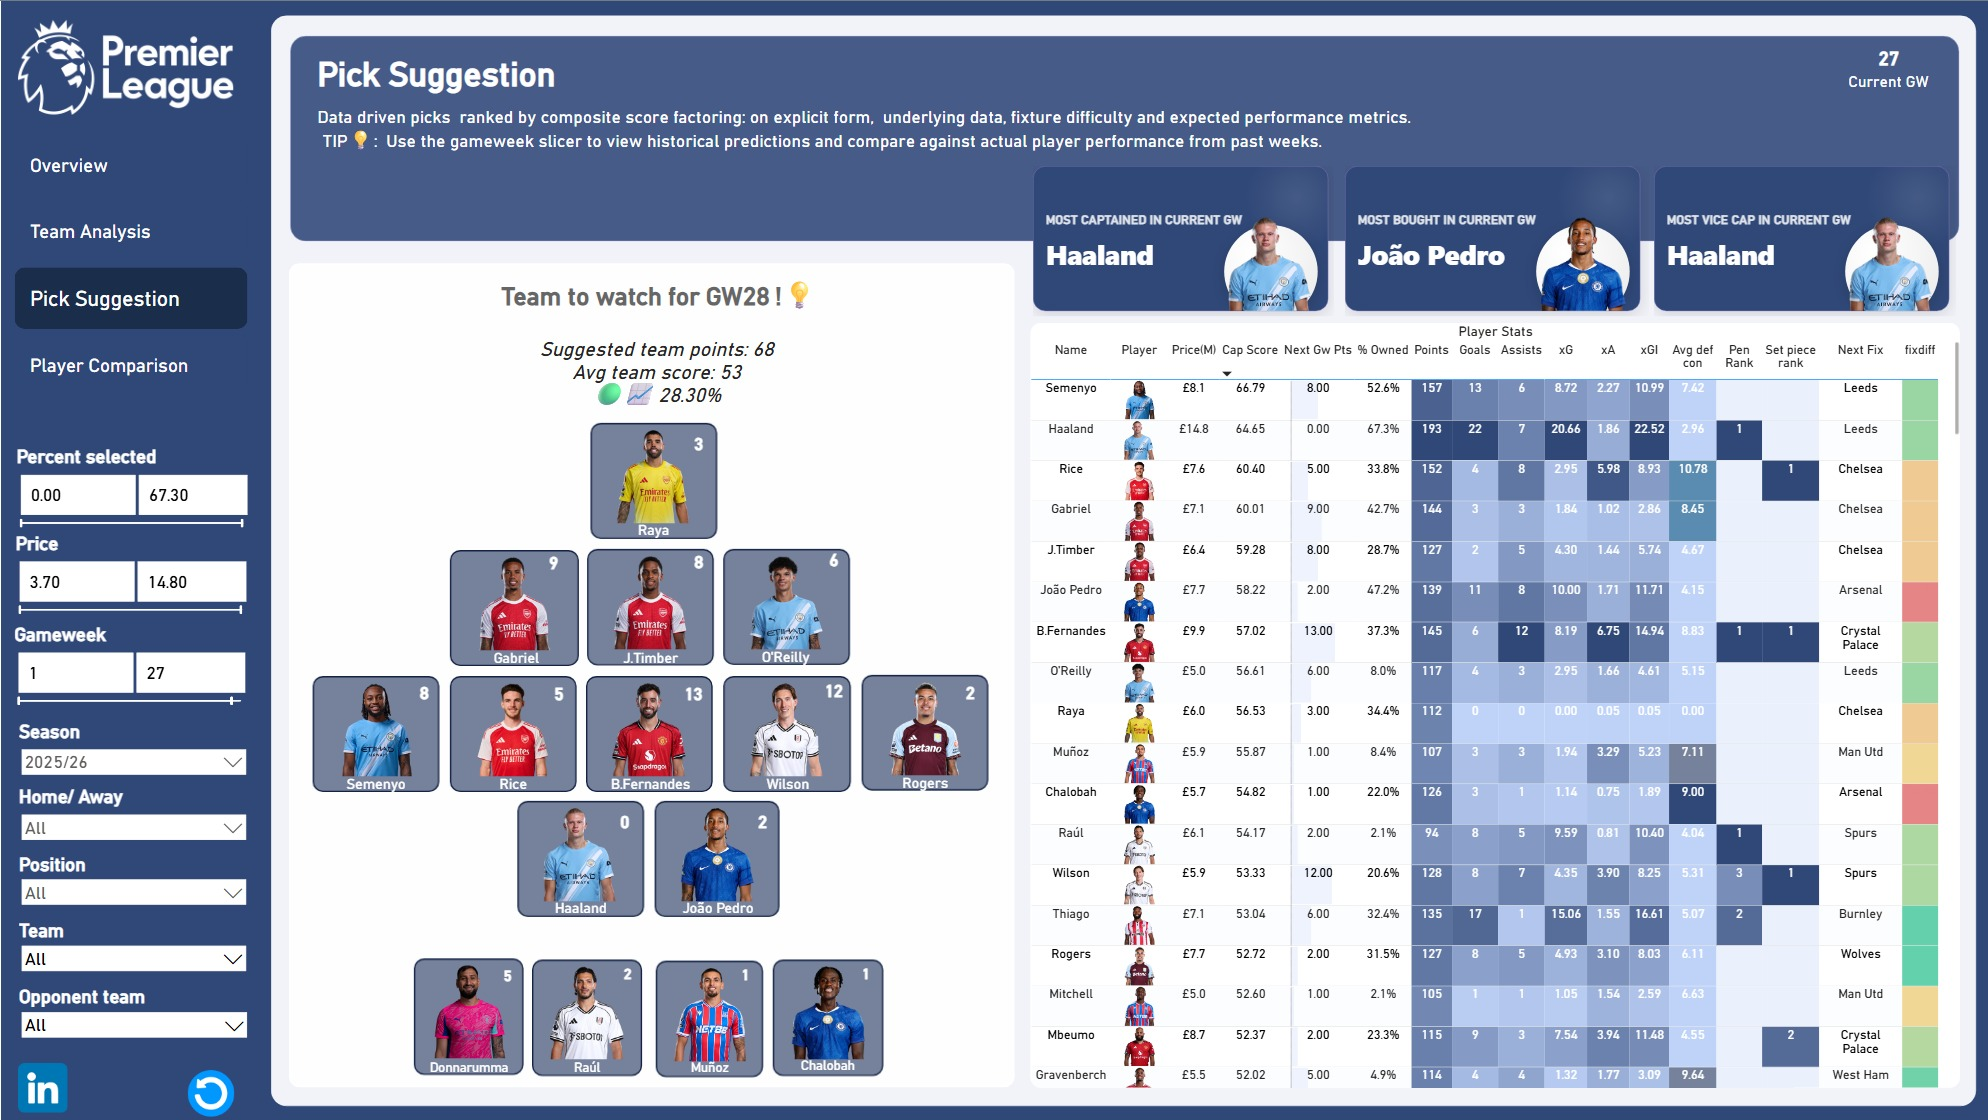

The dashboard page shown, as its layout file describes it:
{"tool":"powerbi","page":{"name":"Pick Suggestion","canvas":[3840,2160],"ordinal":2},"visuals":[{"type":"shape","box":[522,28,3290,2104],"z":0},{"type":"htmlContent443BE3AD55E043BF878BED274D3A6855","fields":{"content":["measures_.gk2_imageurl"]},"box":[796.6,1848.2,211.8,225],"z":0,"group":"g1"},{"type":"shape","box":[556.7,506.7,1400,1590],"z":1000},{"type":"htmlContent443BE3AD55E043BF878BED274D3A6855","fields":{"content":["measures_.fwd3_imageurl"]},"box":[1024.8,1848.9,212,225],"z":1000,"group":"g1"},{"type":"group","id":"g1","title":"Group 1","box":[600.6,814.4,1302.8,1262.5],"z":2000},{"type":"htmlContent443BE3AD55E043BF878BED274D3A6855","fields":{"content":["measures_.def4_imageurl"]},"box":[1262.2,1851.9,207.2,225],"z":2000,"group":"g1"},{"type":"image","box":[32,0,416,256],"z":3000},{"type":"htmlContent443BE3AD55E043BF878BED274D3A6855","fields":{"content":["measures_.def5_imageurl"]},"box":[1488.6,1850,213.3,225],"z":3000,"group":"g1"},{"type":"card","fields":{"Values":["measures_.mid3_name"]},"box":[1130.3,1476.6,244.2,63.7],"z":4000},{"type":"htmlContent443BE3AD55E043BF878BED274D3A6855","fields":{"content":["measures_.fwd1_imageurl"]},"box":[995.7,1544.2,244.2,224.3],"z":4000,"group":"g1"},{"type":"card","fields":{"Values":["measures_.mid4_name"]},"box":[1395.1,1476.6,244.2,63.7],"z":5000},{"type":"htmlContent443BE3AD55E043BF878BED274D3A6855","fields":{"content":["measures_.fwd2_imageurl"]},"box":[1260.6,1544.2,241.1,224.3],"z":5000,"group":"g1"},{"type":"card","fields":{"Values":["measures_.def2_name"]},"box":[1131.1,1233.3,244.9,65.3],"z":6000},{"type":"htmlContent443BE3AD55E043BF878BED274D3A6855","fields":{"content":["measures_.mid5_imageurl"]},"box":[1659.3,1301.7,244.1,223.5],"z":6000,"group":"g1"},{"type":"card","fields":{"Values":["measures_.def3_name"]},"box":[1392.4,1232.5,244.9,61.7],"z":7000},{"type":"htmlContent443BE3AD55E043BF878BED274D3A6855","fields":{"content":["measures_.mid4_imageurl"]},"box":[1393.3,1302.6,245.9,223.6],"z":7000,"group":"g1"},{"type":"htmlContent443BE3AD55E043BF878BED274D3A6855","fields":{"content":["measures_.mid3_imageurl"]},"box":[1129.1,1302.6,244.2,224.3],"z":8000,"group":"g1"},{"type":"card","fields":{"Values":["measures_.fwd1_name"]},"box":[995.7,1716.4,244.2,63.7],"z":8000},{"type":"htmlContent443BE3AD55E043BF878BED274D3A6855","fields":{"content":["measures_.mid1_imageurl"]},"box":[600.6,1302.6,244.2,224.3],"z":9000,"group":"g1"},{"type":"card","fields":{"Values":["measures_.mid1_name"]},"box":[600.6,1476.6,244.2,63.7],"z":9000},{"type":"htmlContent443BE3AD55E043BF878BED274D3A6855","fields":{"content":["measures_.def2_imageurl"]},"box":[1130.6,1058.1,244.2,224.6],"z":10000,"group":"g1"},{"type":"card","fields":{"Values":["measures_.mid5_name"]},"box":[1659.9,1476.6,244.9,63.3],"z":10000},{"type":"htmlContent443BE3AD55E043BF878BED274D3A6855","fields":{"content":["measures_.def3_imageurl"]},"box":[1393.3,1058,244.2,224],"z":11000,"group":"g1"},{"type":"card","fields":{"Values":["measures_.fwd2_name"]},"box":[1260.6,1716.4,244.2,63.7],"z":11000},{"type":"htmlContent443BE3AD55E043BF878BED274D3A6855","fields":{"content":["measures_.mid2_imageurl"]},"box":[864.8,1302.6,244,224.3],"z":12000,"group":"g1"},{"type":"card","fields":{"Values":["measures_.def5_name"]},"box":[1489.7,2021.7,211.7,64.7],"z":12000},{"type":"htmlContent443BE3AD55E043BF878BED274D3A6855","fields":{"content":["measures_.gk1_imageurl"]},"box":[1136.6,814.4,244,224],"z":13000,"group":"g1"},{"type":"card","fields":{"Values":["measures_.def4_name"]},"box":[1262.2,2021.7,207.2,68.6],"z":13000},{"type":"htmlContent443BE3AD55E043BF878BED274D3A6855","fields":{"content":["measures_.def1_imageurl"]},"box":[864.8,1058.6,249,224],"z":14000,"group":"g1"},{"type":"card","fields":{"Values":["measures_.fwd3_name"]},"box":[1024.8,2021.7,212,69.6],"z":14000},{"type":"card","fields":{"Values":["measures_.gk2_name"]},"box":[796.7,2021.7,211.8,70.6],"z":15000},{"type":"image","box":[32,2048,96,96],"z":16000},{"type":"card","fields":{"Values":["measures_.mid3_pts"]},"box":[1288.8,1304,93.3,60],"z":17000},{"type":"card","fields":{"Values":["measures_.mid4_pts"]},"box":[1572.1,1302.6,70,51],"z":18000},{"type":"card","fields":{"Values":["measures_.def2_pts"]},"box":[1311.1,1051.6,70,60],"z":19000},{"type":"card","fields":{"Values":["measures_.def3_pts"]},"box":[1572.1,1051.6,70,51],"z":20000},{"type":"card","fields":{"Values":["measures_.fwd1_pts"]},"box":[1167.4,1549.5,71.1,64.7],"z":21000},{"type":"card","fields":{"Values":["measures_.mid1_pts"]},"box":[779.4,1302.6,74.1,61.8],"z":22000},{"type":"card","fields":{"Values":["measures_.mid2_name"]},"box":[865.4,1476.6,244,63.7],"z":23000},{"type":"card","fields":{"Values":["measures_.mid5_pts"]},"box":[1833.5,1302.6,71.1,61.8],"z":24000},{"type":"card","fields":{"Values":["measures_.fwd2_pts"]},"box":[1425.8,1549.5,85.9,64.7],"z":25000},{"type":"card","fields":{"Values":["measures_.def5_pts"]},"box":[1630.5,1846.7,76.2,57.5],"z":26000},{"type":"card","fields":{"Values":["measures_.def4_pts"]},"box":[1400.2,1846.7,72,58.3],"z":27000},{"type":"card","fields":{"Values":["measures_.fwd3_pts"]},"box":[1173.5,1846.7,68.4,56.5],"z":28000},{"type":"card","fields":{"Values":["measures_.gk2_pts"]},"box":[944.6,1846.7,65.7,62.8],"z":29000},{"type":"card","fields":{"Values":["measures_.mid2_pts"]},"box":[1036.9,1302.6,77,64.7],"z":30000},{"type":"shape","box":[557,68,3220,396],"z":31000},{"type":"slicer","title":"Team ","fields":{"Values":["teams.team_name"]},"box":[34,1766,448,128],"z":32000},{"type":"slicer","title":"Gameweek","fields":{"Values":["FactTable.gameweek"]},"box":[26.7,1196.7,450,193.3],"z":33000},{"type":"pageNavigator","box":[26.7,256.7,450,506.7],"z":34000},{"type":"slicer","title":"Price","fields":{"Values":["FactTable.value"]},"box":[29,1020,450,195],"z":35000},{"type":"slicer","title":"Opponent team","fields":{"Values":["opponent teams.opponent_name"]},"box":[34,1895,450,130],"z":36000},{"type":"slicer","title":"Percent selected ","fields":{"Values":["FactTable.selected_by_percent"]},"box":[30,853.3,450,196.7],"z":37000},{"type":"card","fields":{"Values":["measures_.def1_name"]},"box":[872.6,1232.5,242.9,65],"z":38000},{"type":"textbox","box":[606.7,96.7,2610,296.7],"z":39000},{"type":"card","fields":{"Values":["measures_._gw"]},"box":[3546.7,70,190,110],"z":40000},{"type":"card","fields":{"Values":["measures_.def1_pts"]},"box":[1027,1048.8,78.6,67.9],"z":41000},{"type":"slicer","title":"Season","fields":{"Values":["season.season"]},"box":[34,1382,448,128],"z":42000},{"type":"card","fields":{"Values":["measures_.gk1_pts"]},"box":[1311.1,823.2,70,60],"z":43000},{"type":"card","fields":{"Values":["measures_.gk1_name"]},"box":[1136.9,987.5,242.5,62.5],"z":44000},{"type":"slicer","title":"Position","fields":{"Values":["Position.Position"]},"box":[34,1638,448,128],"z":45000},{"type":"slicer","title":"Home/ Away","fields":{"Values":["home/away.home/away"]},"box":[34,1507.7,448,128],"z":46000},{"type":"card","fields":{"Values":["measures_._teamtitle"]},"box":[930,505,685,115],"z":47000},{"type":"card","fields":{"Values":["measures_.mainprediction team score"]},"box":[955,620,620,180],"z":48000},{"type":"tableEx","title":"Player Stats","fields":{"Values":["players.web_name","players.photo","measures_.pricedisplay","measures_.captainscore","measures_.pointsnextgw","measures_.% Owned","Sum(FactTable.total_points)","Sum(FactTable.goals_scored)","Sum(FactTable.assists)","Sum(FactTable.xG)","Sum(FactTable.xA)","Sum(FactTable.xGI)"]},"box":[1986.7,620,1793.3,1476.7],"z":49000},{"type":"htmlContent443BE3AD55E043BF878BED274D3A6855","fields":{"content":["measures_.mostcaptained"]},"box":[1986.7,313.3,590,300],"z":50000},{"type":"htmlContent443BE3AD55E043BF878BED274D3A6855","fields":{"content":["measures_.mosttransferredin"]},"box":[2586.7,313.3,596.7,300],"z":51000},{"type":"htmlContent443BE3AD55E043BF878BED274D3A6855","fields":{"content":["measures_.mostvicecap"]},"box":[3183.3,313.3,593.3,300],"z":52000},{"type":"image","box":[359.6,2056.6,89.9,104.3],"z":53000}]}

Visuals, with their boxes on the page's 3840x2160 design canvas (x1, y1, x2, y2). These are canvas units, not pixel positions in the 1988x1120 screenshot, which may show the page scaled, cropped or inside an application window:
shape: crop(522, 28, 3812, 2132)
htmlContent443BE3AD55E043BF878BED274D3A6855 - measures_.gk2_imageurl: crop(797, 1848, 1008, 2073)
shape: crop(557, 507, 1957, 2097)
htmlContent443BE3AD55E043BF878BED274D3A6855 - measures_.fwd3_imageurl: crop(1025, 1849, 1237, 2074)
"Group 1" group: crop(601, 814, 1903, 2077)
htmlContent443BE3AD55E043BF878BED274D3A6855 - measures_.def4_imageurl: crop(1262, 1852, 1469, 2077)
image: crop(32, 0, 448, 256)
htmlContent443BE3AD55E043BF878BED274D3A6855 - measures_.def5_imageurl: crop(1489, 1850, 1702, 2075)
card - measures_.mid3_name: crop(1130, 1477, 1374, 1540)
htmlContent443BE3AD55E043BF878BED274D3A6855 - measures_.fwd1_imageurl: crop(996, 1544, 1240, 1768)
card - measures_.mid4_name: crop(1395, 1477, 1639, 1540)
htmlContent443BE3AD55E043BF878BED274D3A6855 - measures_.fwd2_imageurl: crop(1261, 1544, 1502, 1768)
card - measures_.def2_name: crop(1131, 1233, 1376, 1299)
htmlContent443BE3AD55E043BF878BED274D3A6855 - measures_.mid5_imageurl: crop(1659, 1302, 1903, 1525)
card - measures_.def3_name: crop(1392, 1232, 1637, 1294)
htmlContent443BE3AD55E043BF878BED274D3A6855 - measures_.mid4_imageurl: crop(1393, 1303, 1639, 1526)
htmlContent443BE3AD55E043BF878BED274D3A6855 - measures_.mid3_imageurl: crop(1129, 1303, 1373, 1527)
card - measures_.fwd1_name: crop(996, 1716, 1240, 1780)
htmlContent443BE3AD55E043BF878BED274D3A6855 - measures_.mid1_imageurl: crop(601, 1303, 845, 1527)
card - measures_.mid1_name: crop(601, 1477, 845, 1540)
htmlContent443BE3AD55E043BF878BED274D3A6855 - measures_.def2_imageurl: crop(1131, 1058, 1375, 1283)
card - measures_.mid5_name: crop(1660, 1477, 1905, 1540)
htmlContent443BE3AD55E043BF878BED274D3A6855 - measures_.def3_imageurl: crop(1393, 1058, 1638, 1282)
card - measures_.fwd2_name: crop(1261, 1716, 1505, 1780)
htmlContent443BE3AD55E043BF878BED274D3A6855 - measures_.mid2_imageurl: crop(865, 1303, 1109, 1527)
card - measures_.def5_name: crop(1490, 2022, 1701, 2086)
htmlContent443BE3AD55E043BF878BED274D3A6855 - measures_.gk1_imageurl: crop(1137, 814, 1381, 1038)
card - measures_.def4_name: crop(1262, 2022, 1469, 2090)
htmlContent443BE3AD55E043BF878BED274D3A6855 - measures_.def1_imageurl: crop(865, 1059, 1114, 1283)
card - measures_.fwd3_name: crop(1025, 2022, 1237, 2091)
card - measures_.gk2_name: crop(797, 2022, 1008, 2092)
image: crop(32, 2048, 128, 2144)
card - measures_.mid3_pts: crop(1289, 1304, 1382, 1364)
card - measures_.mid4_pts: crop(1572, 1303, 1642, 1354)
card - measures_.def2_pts: crop(1311, 1052, 1381, 1112)
card - measures_.def3_pts: crop(1572, 1052, 1642, 1103)
card - measures_.fwd1_pts: crop(1167, 1550, 1238, 1614)
card - measures_.mid1_pts: crop(779, 1303, 854, 1364)
card - measures_.mid2_name: crop(865, 1477, 1109, 1540)
card - measures_.mid5_pts: crop(1834, 1303, 1905, 1364)
card - measures_.fwd2_pts: crop(1426, 1550, 1512, 1614)
card - measures_.def5_pts: crop(1630, 1847, 1707, 1904)
card - measures_.def4_pts: crop(1400, 1847, 1472, 1905)
card - measures_.fwd3_pts: crop(1174, 1847, 1242, 1903)
card - measures_.gk2_pts: crop(945, 1847, 1010, 1910)
card - measures_.mid2_pts: crop(1037, 1303, 1114, 1367)
shape: crop(557, 68, 3777, 464)
"Team " slicer: crop(34, 1766, 482, 1894)
"Gameweek" slicer: crop(27, 1197, 477, 1390)
pageNavigator: crop(27, 257, 477, 763)
"Price" slicer: crop(29, 1020, 479, 1215)
"Opponent team" slicer: crop(34, 1895, 484, 2025)
"Percent selected " slicer: crop(30, 853, 480, 1050)
card - measures_.def1_name: crop(873, 1232, 1116, 1298)
textbox: crop(607, 97, 3217, 393)
card - measures_._gw: crop(3547, 70, 3737, 180)
card - measures_.def1_pts: crop(1027, 1049, 1106, 1117)
"Season" slicer: crop(34, 1382, 482, 1510)
card - measures_.gk1_pts: crop(1311, 823, 1381, 883)
card - measures_.gk1_name: crop(1137, 988, 1379, 1050)
"Position" slicer: crop(34, 1638, 482, 1766)
"Home/ Away" slicer: crop(34, 1508, 482, 1636)
card - measures_._teamtitle: crop(930, 505, 1615, 620)
card - measures_.mainprediction team score: crop(955, 620, 1575, 800)
"Player Stats" tableEx: crop(1987, 620, 3780, 2097)
htmlContent443BE3AD55E043BF878BED274D3A6855 - measures_.mostcaptained: crop(1987, 313, 2577, 613)
htmlContent443BE3AD55E043BF878BED274D3A6855 - measures_.mosttransferredin: crop(2587, 313, 3183, 613)
htmlContent443BE3AD55E043BF878BED274D3A6855 - measures_.mostvicecap: crop(3183, 313, 3777, 613)
image: crop(360, 2057, 450, 2161)
